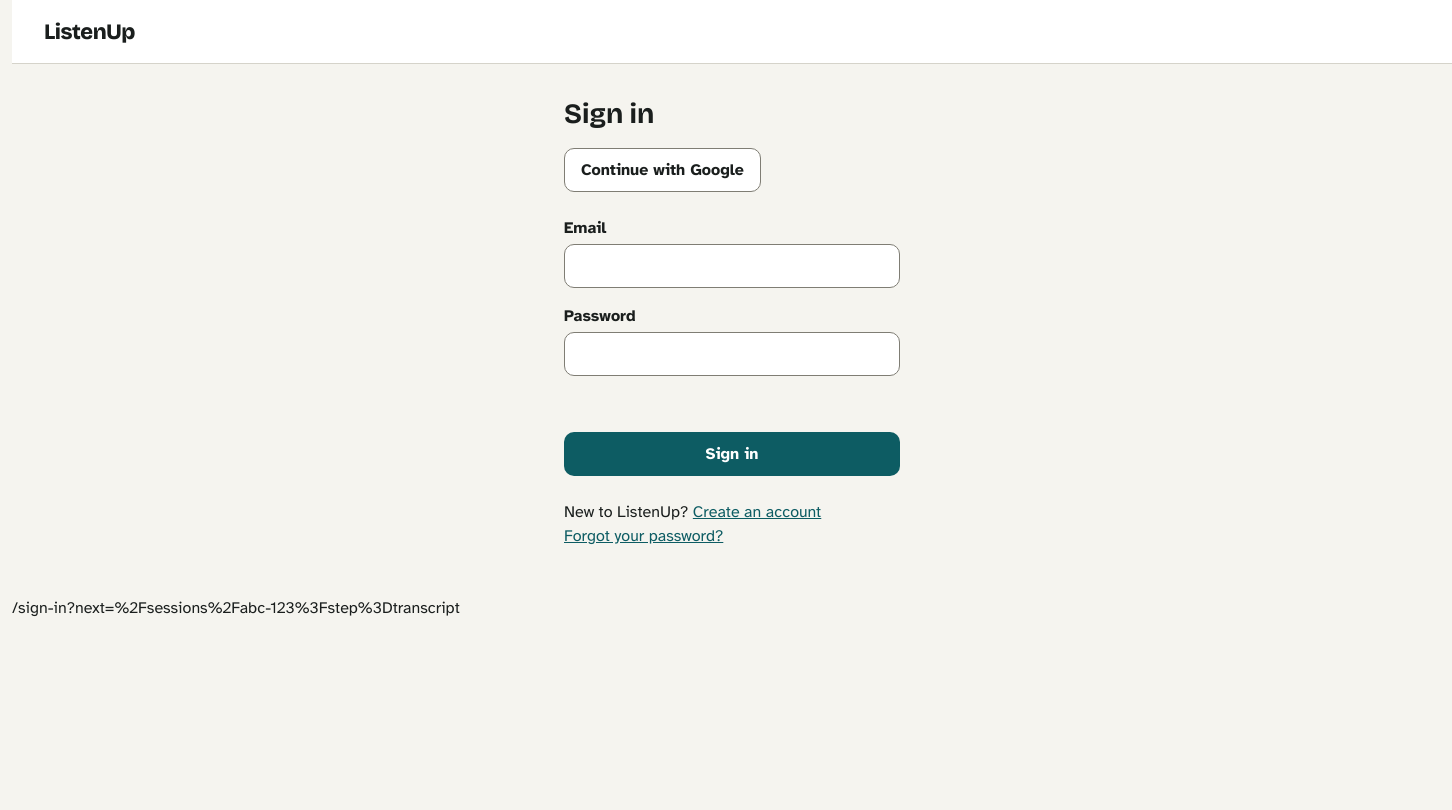
it: a signed-out learner who opens a session signs in and comes back to it
Expected: the heading "Sign in" is shown, [564,97,654,131]
Type "learner@example.com" into the field labelled "Email" at (732, 266), box [564,244,900,288]
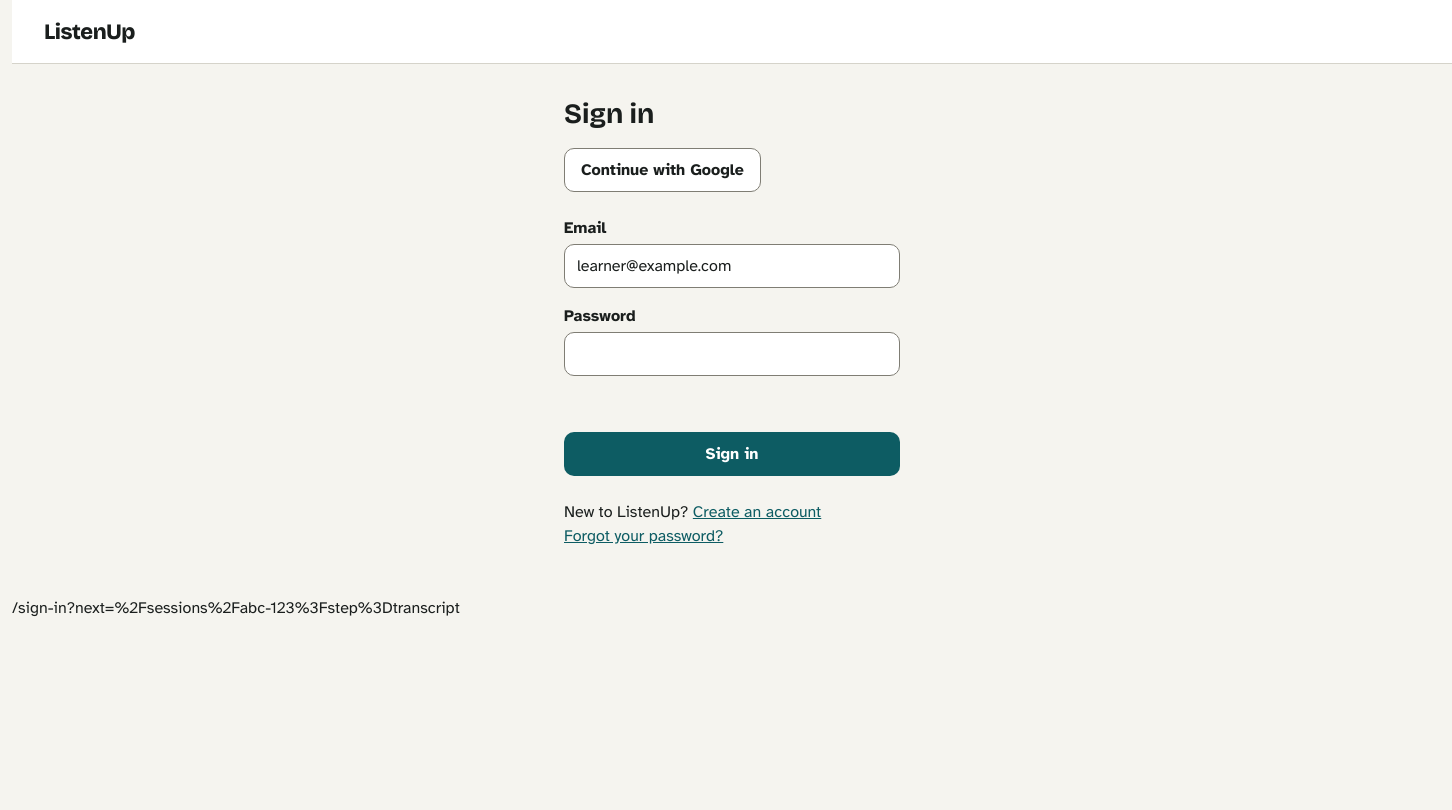
Type "correct horse" into the password field labelled "Password" at (732, 354), box [564,332,900,376]
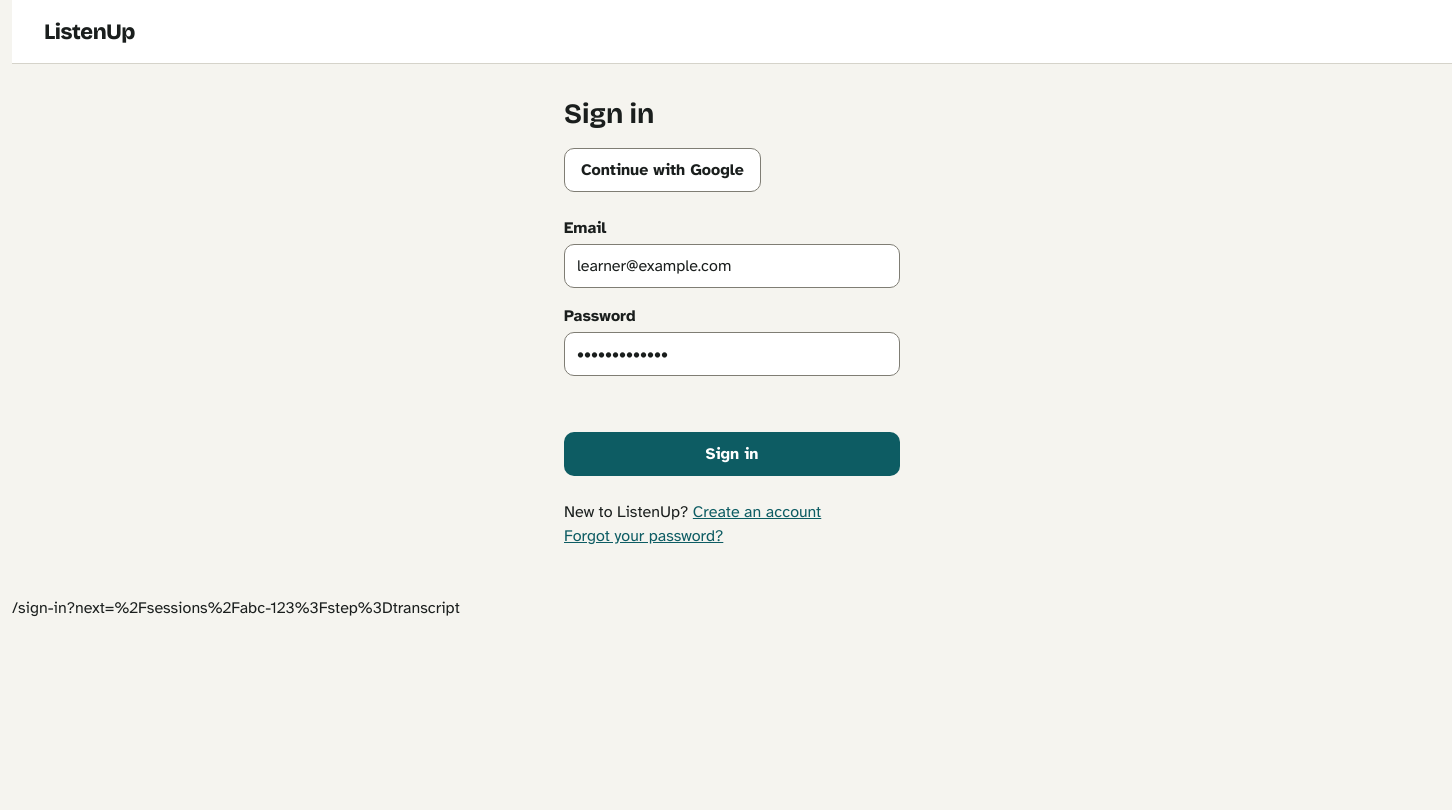
Click the button "Sign in" at (732, 454), box [564,432,900,476]
(page scrolled)
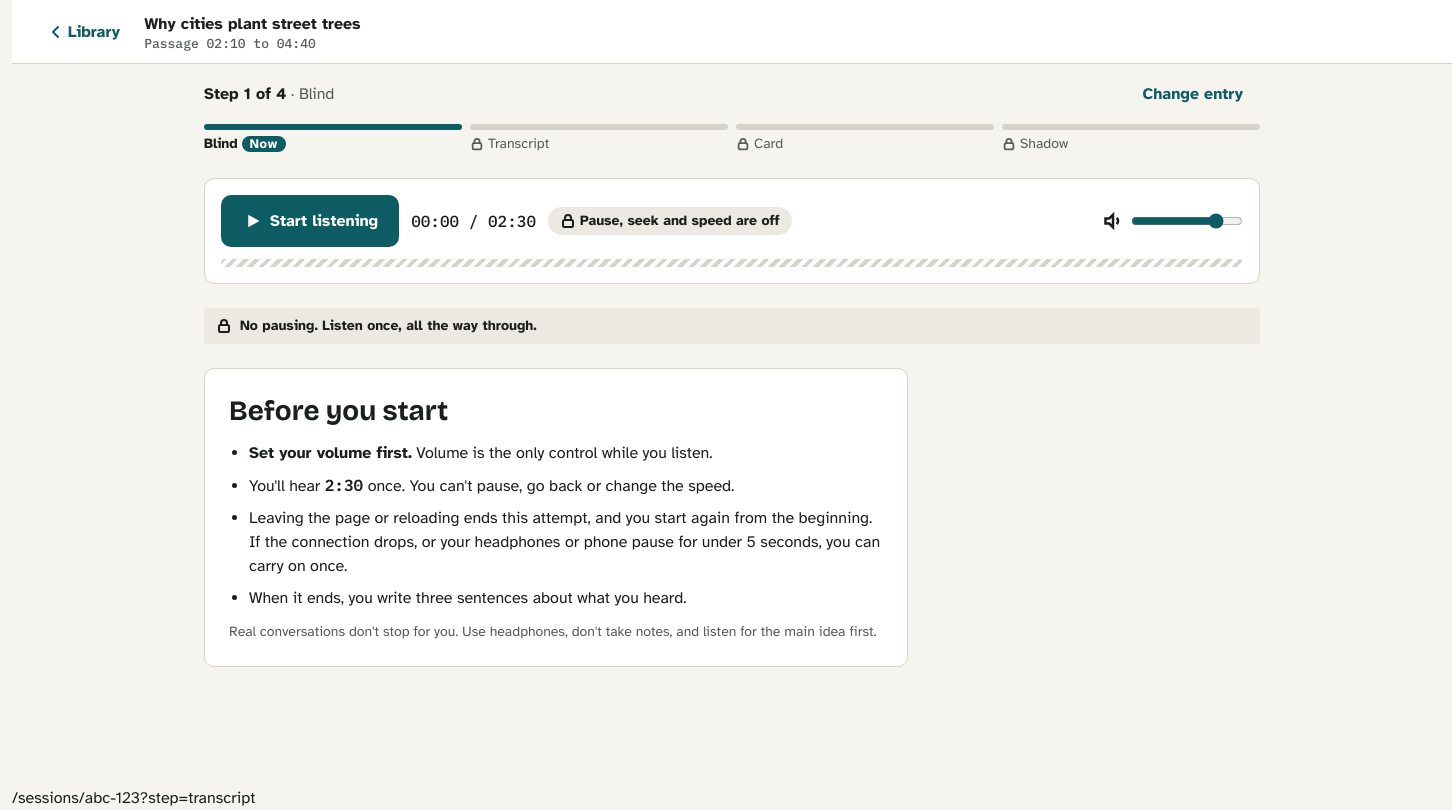
Now the text with test id "url" reads "/sessions/abc-123?step=transcript", box [12,788,255,808]
